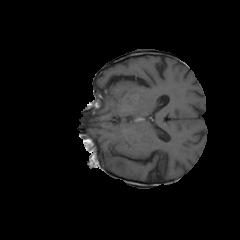glioma: (105, 129, 145, 179)
